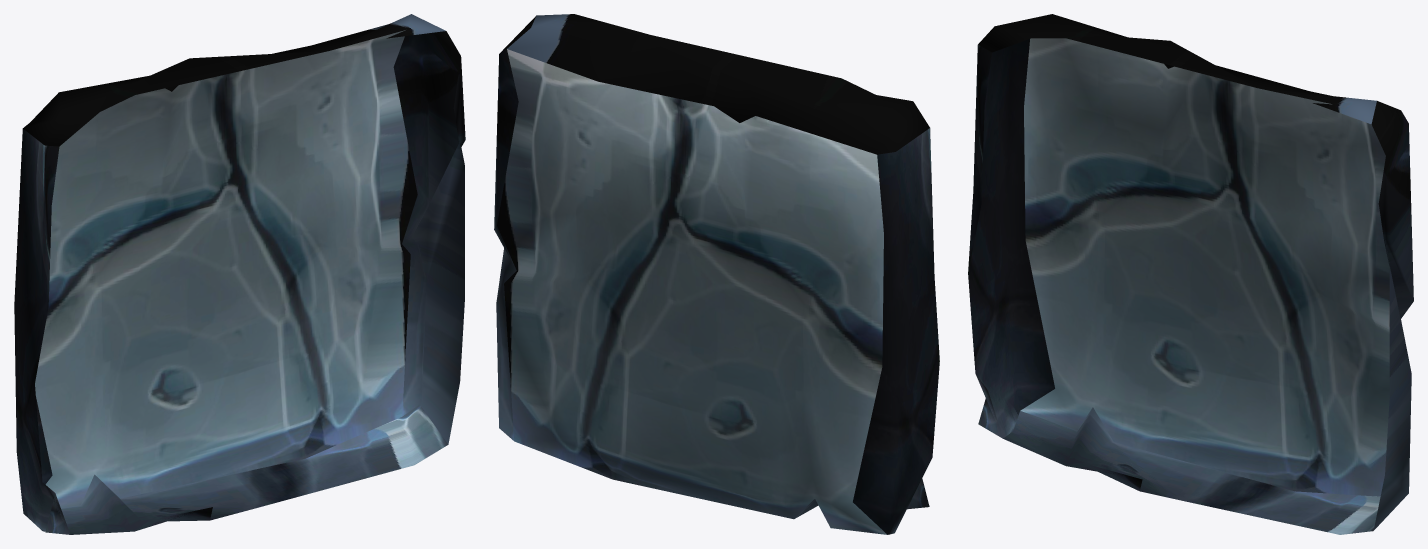
The model's file is StonePath.fbx.
3 views of the same model, side by side, from view 1: azimuth 30°, elevation 25°; view 2: azimuth 150°, elevation 25°; view 3: azimuth 330°, elevation 25° (orthographic). The views are drawn at different scales.
Visible parts, largest first — view 1: defaultMaterial; view 2: defaultMaterial; view 3: defaultMaterial.
Boxes of the visible parts, x1,y1,x2,y2 form: defaultMaterial: [14, 14, 465, 534]; defaultMaterial: [494, 14, 939, 534]; defaultMaterial: [968, 14, 1413, 534].
Size of the model in its own units: 2098 by 2065 by 316.
1 material, 1 textured.
